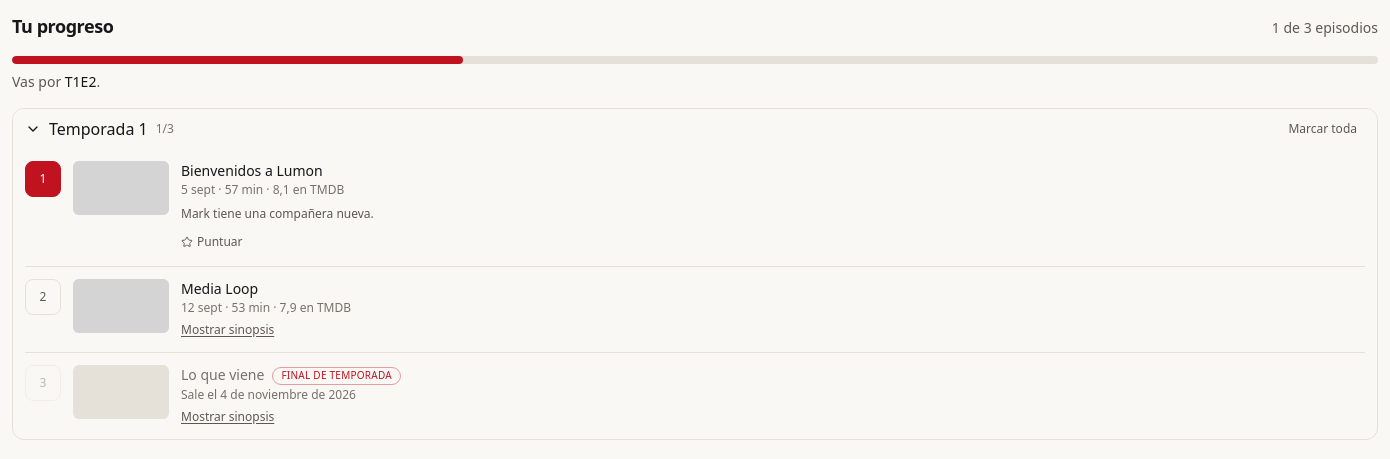
Test case: SeriesProgress, con los episodios de la temporada › esconde la sinopsis de lo que no viste hasta que se pide
Expected: the text "Mark tiene una compañera nueva." is shown, 181,205 -> 374,222
Expected: the text "Helly intenta renunciar." is not shown
Step 1. Click the button "Mostrar sinopsis" below "12 sept · 53 min · 7,9 en TMDB" → (228, 330), box 181,322 -> 274,338
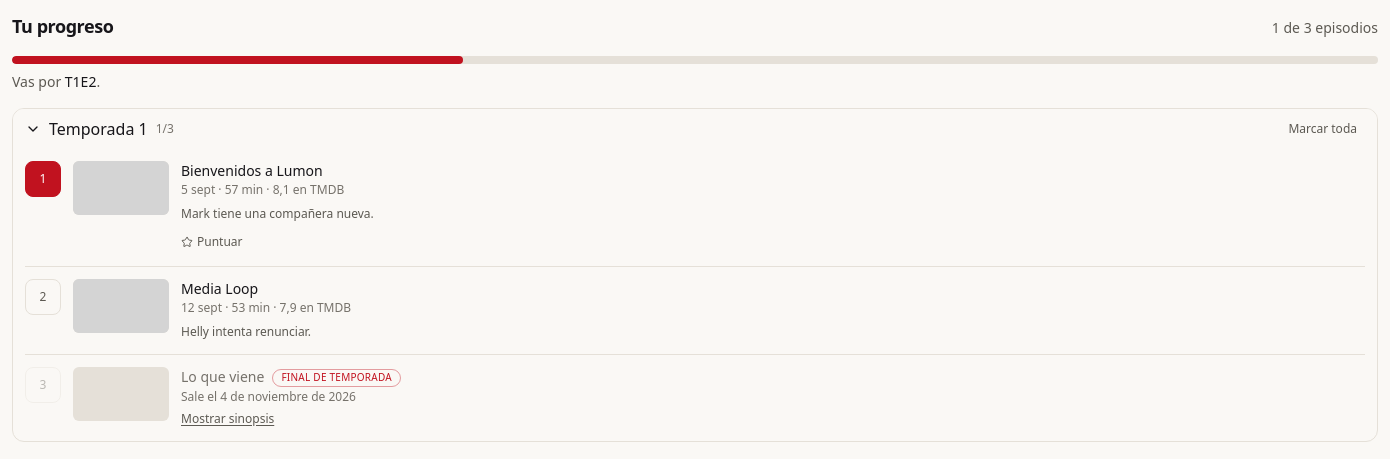
Result: the text "Helly intenta renunciar." is shown at 181,323 -> 311,340
